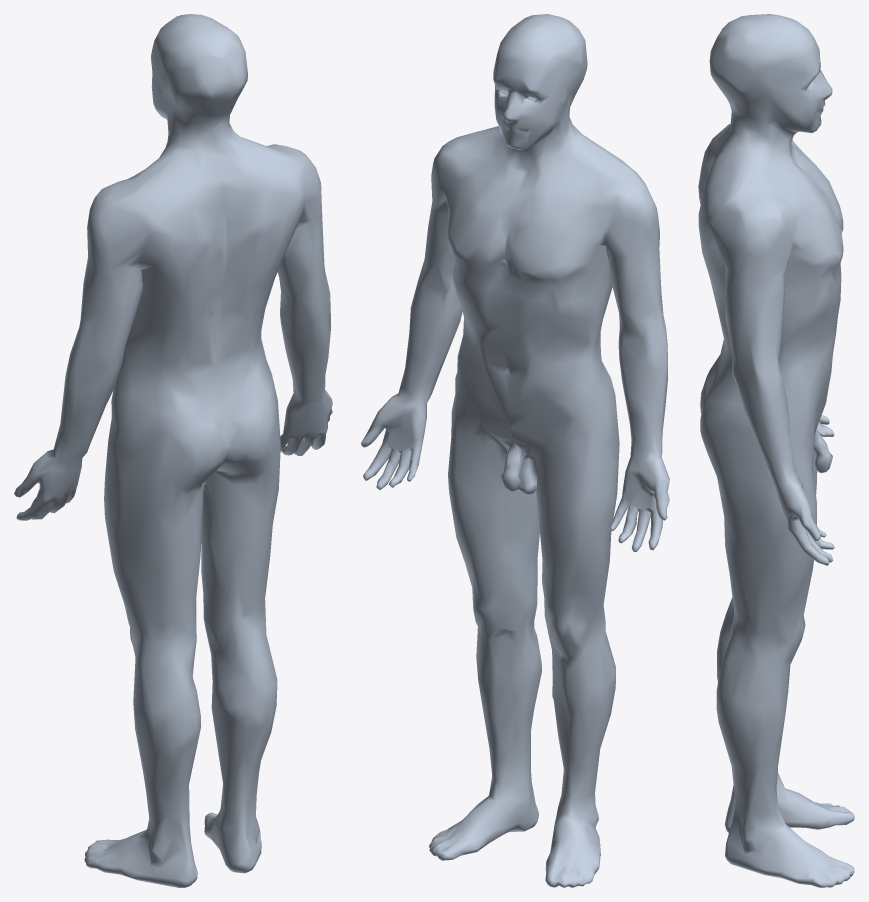
The model's file is context_lod1.glb.
3 renders of one model, left to right at view 1: azimuth 30°, elevation 25°; view 2: azimuth 150°, elevation 25°; view 3: azimuth 270°, elevation 25°, orthographic. The views are drawn at different scales.
Parts seen in each view (by area): view 1: FJ2810; view 2: FJ2810; view 3: FJ2810.
Part boxes in pixels (x1,y1,x2,y2): FJ2810: (14, 14, 332, 887); FJ2810: (361, 14, 669, 887); FJ2810: (698, 14, 854, 887).
Size of the model in its own units: 66.73 by 172 by 29.25.
